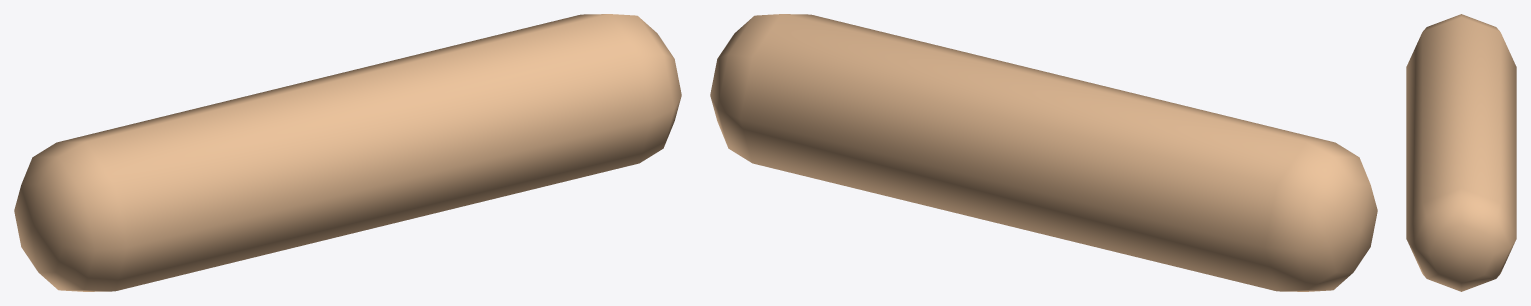
Rendered from SP_House13_Cylinder03.fbx.
The picture shows the model from 3 angles, left to right: view 1: azimuth 30°, elevation 25°; view 2: azimuth 150°, elevation 25°; view 3: azimuth 270°, elevation 25°; orthographic projection. The views are drawn at different scales.
Visible parts, largest first — view 1: SP_House13_Cylinder03; view 2: SP_House13_Cylinder03; view 3: SP_House13_Cylinder03.
Boxes of the visible parts, x1,y1,x2,y2 form: SP_House13_Cylinder03: [14, 14, 681, 291]; SP_House13_Cylinder03: [710, 14, 1377, 291]; SP_House13_Cylinder03: [1406, 14, 1516, 291].
Size of the model in its own units: 2.37 by 0.5366 by 0.5366.
